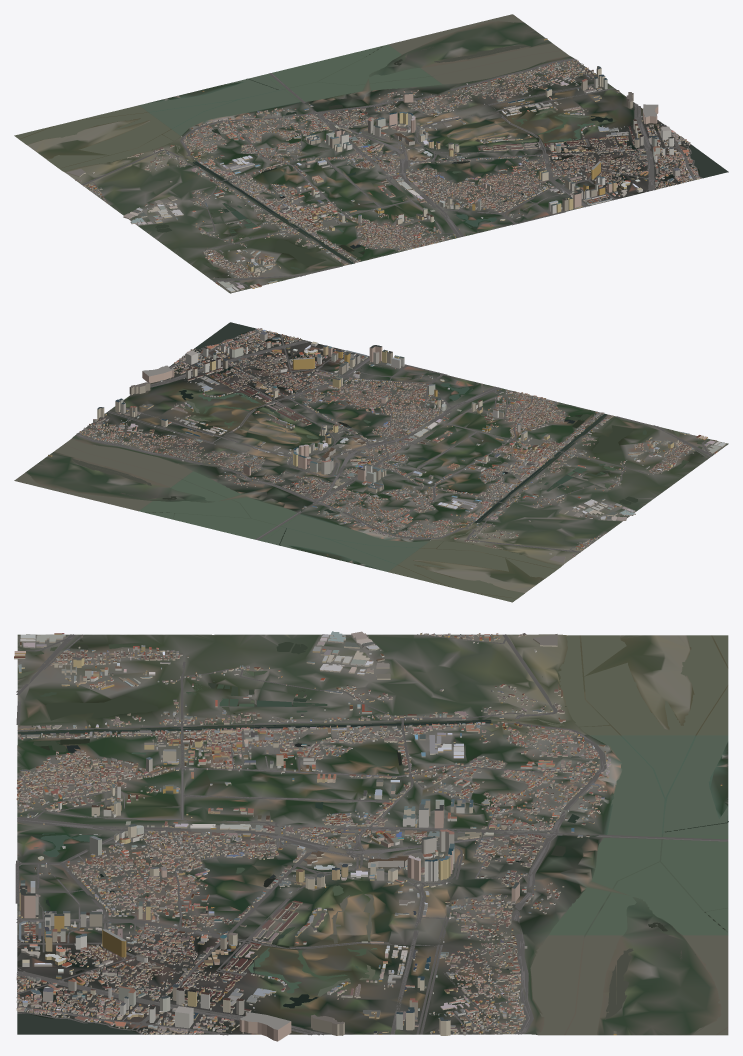
3 views of the same model, one above another, from view 1: azimuth 30°, elevation 25°; view 2: azimuth 150°, elevation 25°; view 3: azimuth 270°, elevation 25° (orthographic). The views are drawn at different scales.
Visible parts, largest first — view 1: ground, buildings, water, roads; view 2: ground, buildings, water, roads; view 3: ground, buildings, water, roads.
Part boxes in pixels (bbox=[...]): ground: bbox=[16, 16, 728, 293]; buildings: bbox=[66, 38, 700, 292]; water: bbox=[14, 14, 728, 284]; roads: bbox=[81, 58, 702, 288]; ground: bbox=[14, 329, 728, 602]; buildings: bbox=[48, 328, 726, 563]; water: bbox=[14, 322, 703, 602]; roads: bbox=[76, 328, 712, 552]; ground: bbox=[17, 634, 728, 1035]; buildings: bbox=[14, 631, 722, 1041]; water: bbox=[17, 635, 728, 1035]; roads: bbox=[15, 634, 728, 1035].
Size of the model in its own units: 5727 by 156 by 4230.
